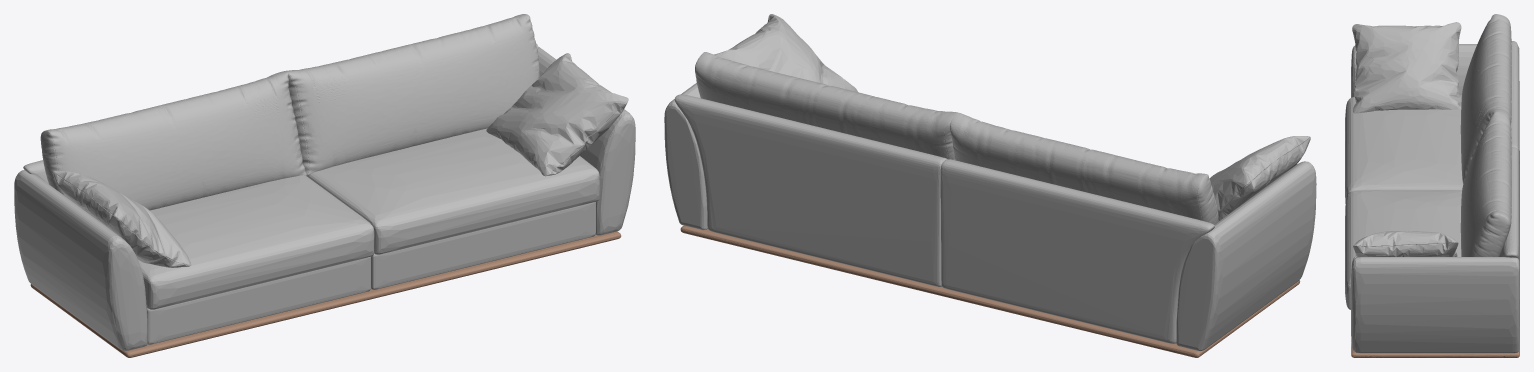
Rendered from sofa-sonata.glb.
3 renders of one model, left to right at view 1: azimuth 30°, elevation 25°; view 2: azimuth 150°, elevation 25°; view 3: azimuth 270°, elevation 25°, orthographic. The views are drawn at different scales.
Parts seen in each view (by area): view 1: 3DGeom-10, 3DGeom-11, 3DGeom-8, 3DGeom-4, 3DGeom-2, 3DGeom-12, 3DGeom-7, 3DGeom-9, 3DGeom-13, 3DGeom-3, 3DGeom-1; view 2: 3DGeom-6, 3DGeom-5, 3DGeom-2, 3DGeom-11, 3DGeom-10, 3DGeom-3, 3DGeom-12, 3DGeom-1, 3DGeom-13; view 3: 3DGeom-1, 3DGeom-4, 3DGeom-13, 3DGeom-10, 3DGeom-8, 3DGeom-11, 3DGeom-12, 3DGeom-5, 3DGeom-3, 3DGeom-6, 3DGeom-2.
Part boxes in pixels (x1,y1,x2,y2): 3DGeom-10: (283, 14, 539, 176); 3DGeom-11: (40, 71, 306, 210); 3DGeom-8: (307, 128, 599, 254); 3DGeom-4: (138, 175, 374, 309); 3DGeom-2: (14, 170, 147, 350); 3DGeom-12: (486, 53, 628, 176); 3DGeom-7: (371, 202, 595, 289); 3DGeom-9: (146, 257, 370, 344); 3DGeom-13: (52, 170, 191, 267); 3DGeom-3: (30, 231, 621, 357); 3DGeom-1: (537, 47, 635, 235); 3DGeom-6: (940, 159, 1214, 343); 3DGeom-5: (674, 94, 947, 286); 3DGeom-2: (1176, 161, 1316, 351); 3DGeom-11: (950, 112, 1218, 224); 3DGeom-10: (695, 52, 957, 160); 3DGeom-3: (680, 225, 1300, 357); 3DGeom-12: (714, 14, 857, 91); 3DGeom-1: (664, 83, 707, 230); 3DGeom-13: (1209, 136, 1310, 220); 3DGeom-1: (1351, 257, 1519, 353); 3DGeom-4: (1345, 95, 1463, 203); 3DGeom-13: (1352, 22, 1461, 113); 3DGeom-10: (1460, 112, 1511, 256); 3DGeom-8: (1345, 190, 1461, 309); 3DGeom-11: (1460, 14, 1511, 183); 3DGeom-12: (1353, 231, 1458, 259); 3DGeom-5: (1499, 147, 1519, 333); 3DGeom-3: (1351, 151, 1519, 357); 3DGeom-6: (1511, 41, 1519, 162); 3DGeom-2: (1351, 44, 1519, 97).
Bounding box in the file's own units: 2.78 × 0.8332 × 0.9305.
